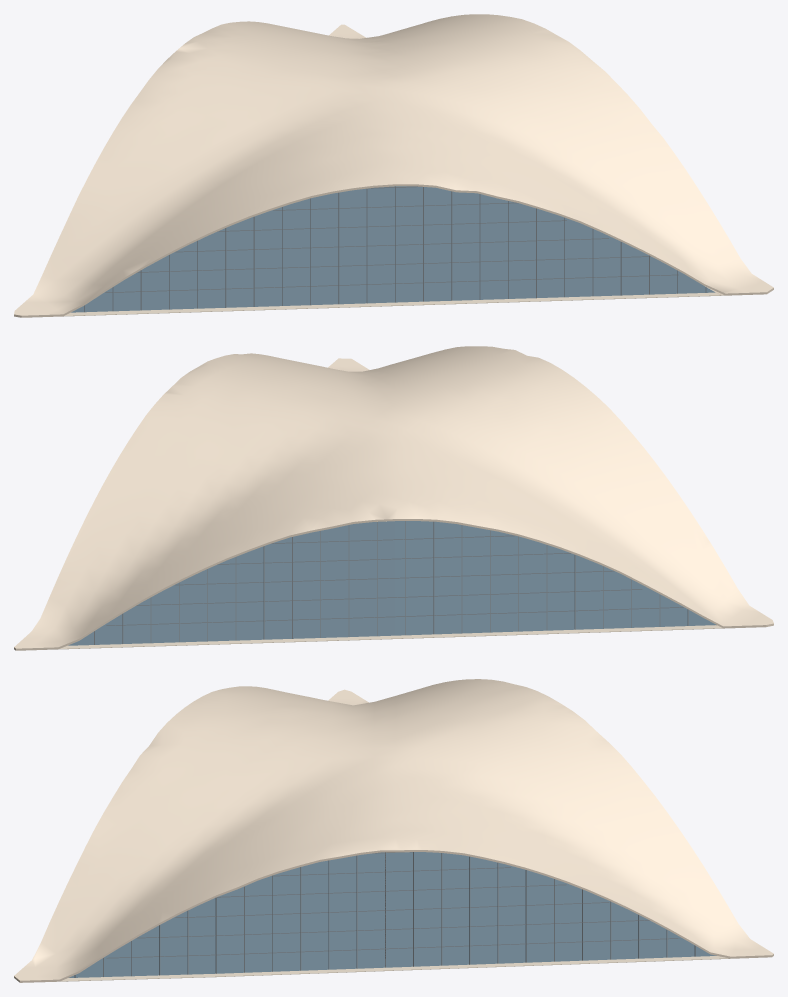
3 renders of one model, top to bottom at view 1: azimuth 30°, elevation 25°; view 2: azimuth 150°, elevation 25°; view 3: azimuth 270°, elevation 25°, orthographic.
Parts seen in each view (by area): view 1: trim, metal, roof, stone; view 2: trim, metal, roof, stone; view 3: trim, metal, roof, stone.
Boxes of the visible parts, x1,y1,x2,y2 form: trim: (14,14,773,317); metal: (71,186,715,312); roof: (84,186,706,312); stone: (15,292,763,317); trim: (14,346,773,650); metal: (68,521,715,645); roof: (94,521,716,644); stone: (15,625,766,650); trim: (14,679,773,982); metal: (69,852,716,977); roof: (74,852,695,977); stone: (14,956,769,982).
Size of the model in its own units: 195 by 38.49 by 215.
